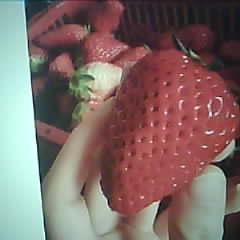straw-ripe: (100, 48, 240, 214)
